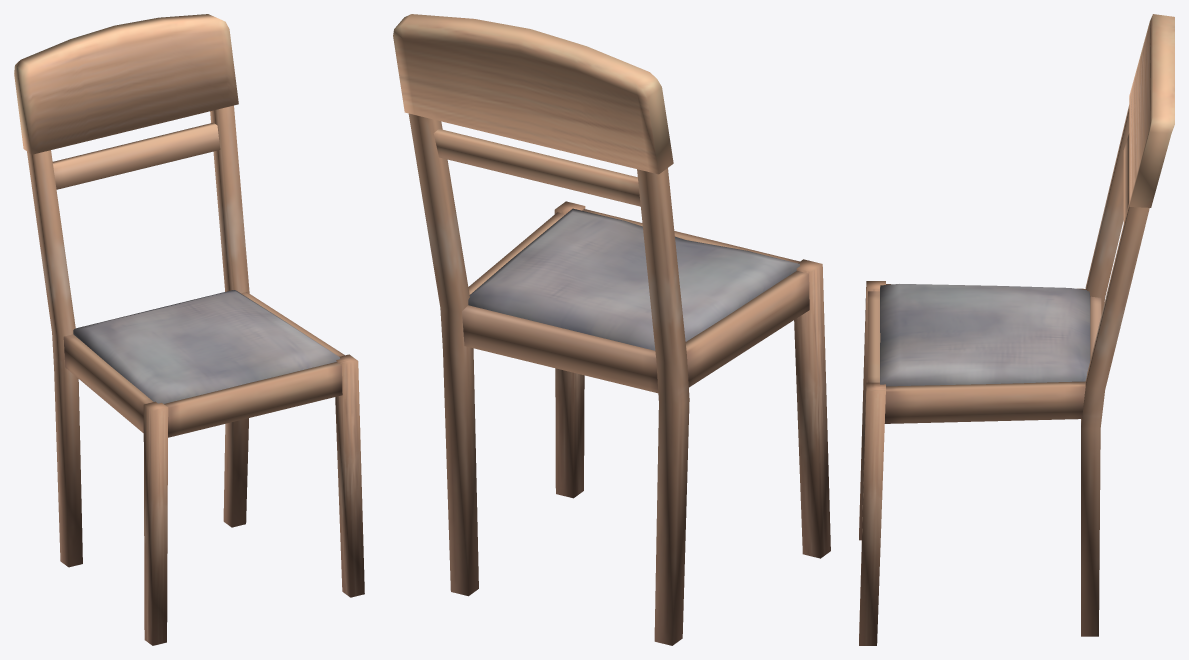
File: Chair.fbx
The picture shows the model from 3 angles, left to right: view 1: azimuth 30°, elevation 25°; view 2: azimuth 150°, elevation 25°; view 3: azimuth 270°, elevation 25°; orthographic projection. The views are drawn at different scales.
Parts seen in each view (by area): view 1: Chair; view 2: Chair; view 3: Chair.
Boxes of the visible parts, x1,y1,x2,y2 form: Chair: [14, 14, 364, 645]; Chair: [393, 14, 830, 645]; Chair: [859, 14, 1174, 645].
Bounding box in the file's own units: 0.6491 × 1.43 × 0.7655.
